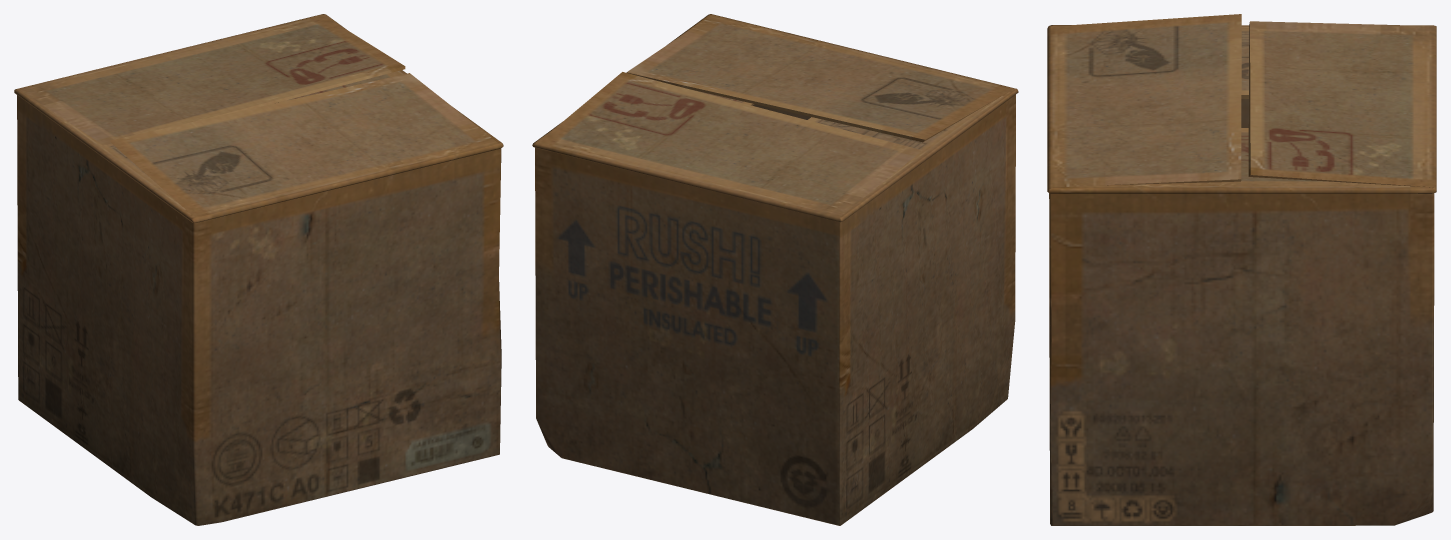
File: CardboardBox_VarE.fbx
3 views of the same model, side by side, from view 1: azimuth 30°, elevation 25°; view 2: azimuth 150°, elevation 25°; view 3: azimuth 270°, elevation 25° (orthographic). The views are drawn at different scales.
Parts seen in each view (by area): view 1: CardboardBox_VarE_LOD0; view 2: CardboardBox_VarE_LOD0; view 3: CardboardBox_VarE_LOD0.
Part boxes in pixels (<box>): CardboardBox_VarE_LOD0: <box>14,14,503,525</box>; CardboardBox_VarE_LOD0: <box>532,14,1018,525</box>; CardboardBox_VarE_LOD0: <box>1047,14,1436,525</box>.
Size of what is drawn, in the model's own units: 68.39 by 67.8 by 68.08.
